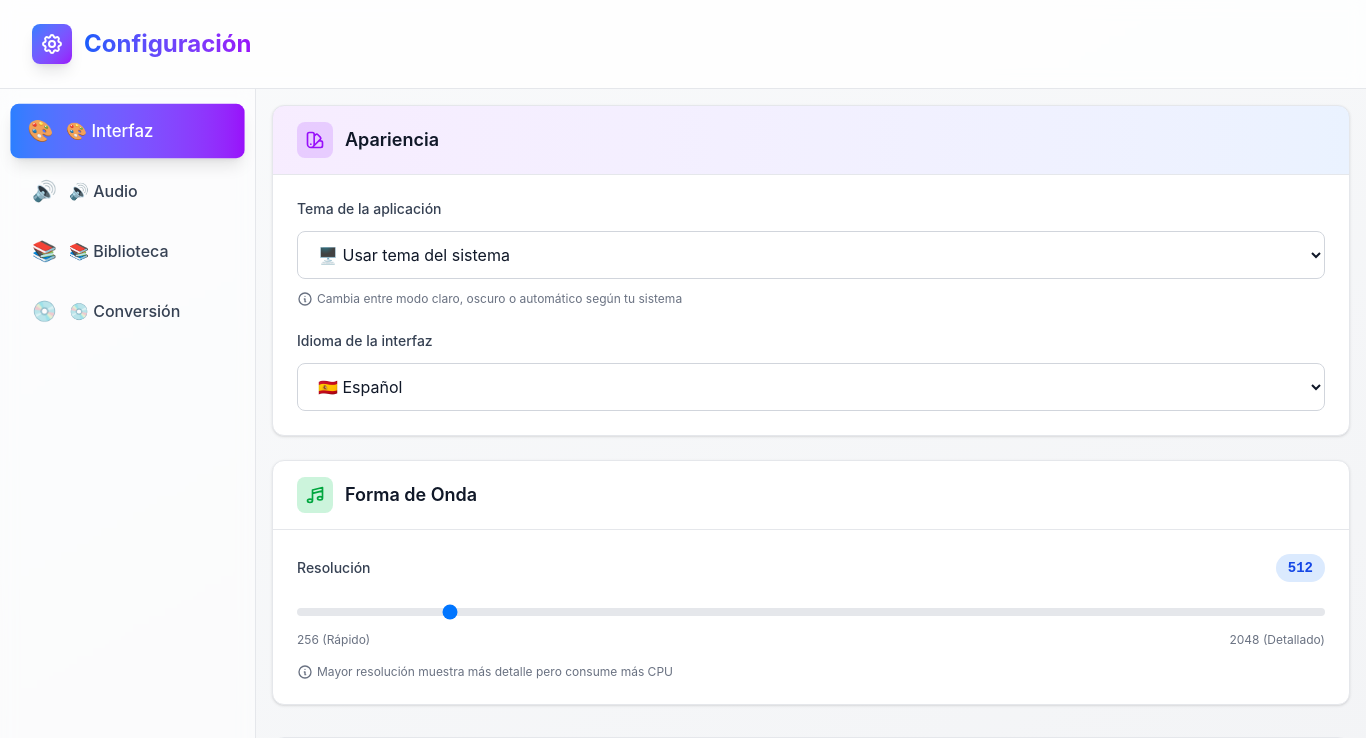
Scenario: Settings › Pestaña Conversión › debería habilitar controles cuando conversión está habilitada
The width and height of the screenshot is (1366, 738).
What coordinates should you click on to do the following:
click the text "💿 Conversión"
I would click on:
 (125, 311)
Its box is [69,299,180,323].
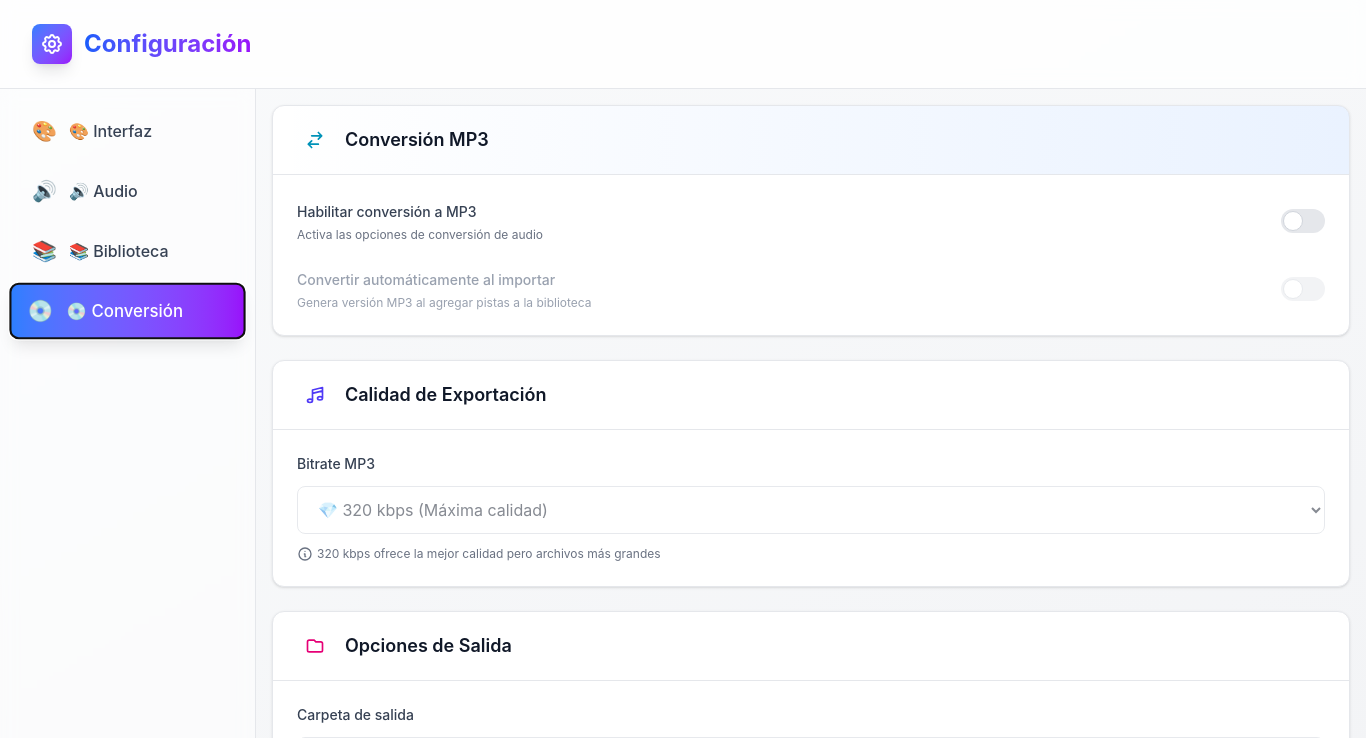
What coordinates should you click on to do the following:
click the checkbox labelled "Habilitar conversión a MP3"
I would click on:
 (387, 212)
Its box is [297,203,477,220].
(page scrolled)
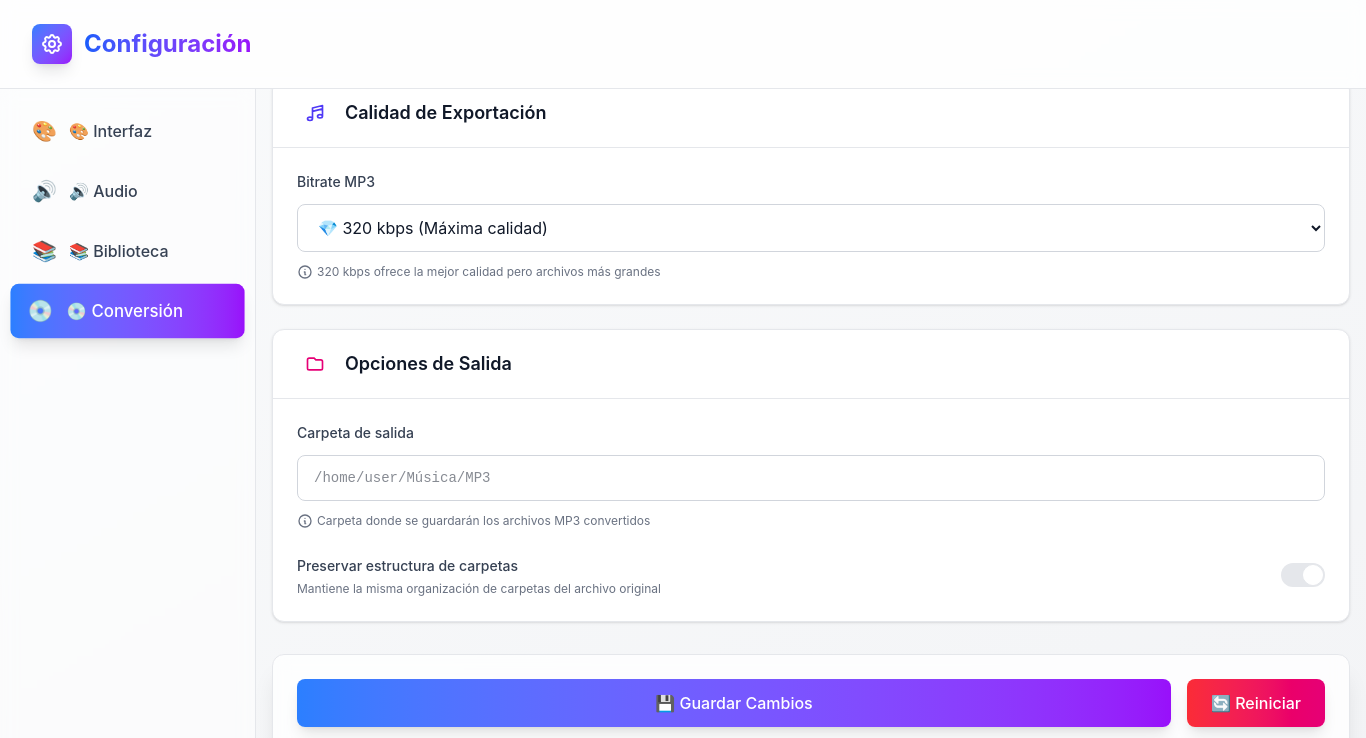
Now the dropdown labelled "Bitrate MP3" is enabled, box [297,204,1325,252]
Now the field labelled "Carpeta de salida" is enabled, box [297,455,1325,501]
